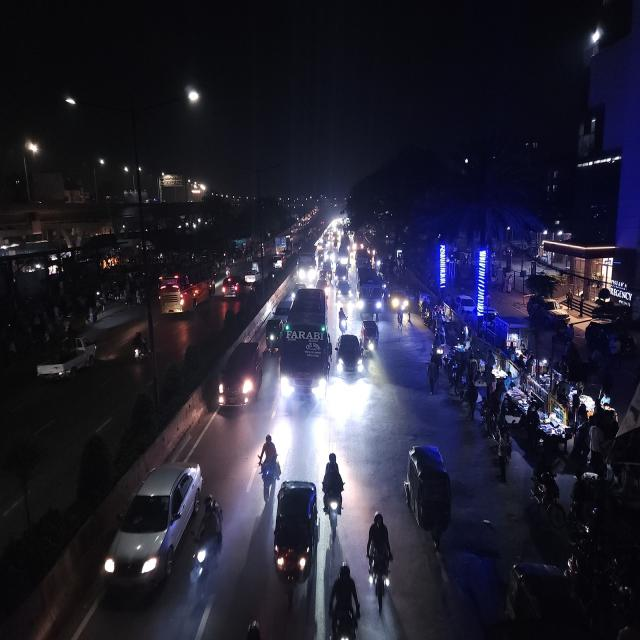bus: (282, 284, 332, 420), (156, 261, 216, 318), (355, 265, 385, 320), (296, 234, 320, 288)
car: (99, 456, 204, 606), (215, 339, 262, 416), (336, 329, 364, 383), (221, 274, 245, 302), (456, 292, 476, 319), (336, 276, 352, 303)
cng: (402, 439, 454, 549), (272, 475, 319, 596), (264, 316, 284, 357), (362, 316, 381, 357), (362, 317, 381, 358)
motorcycle: (188, 493, 224, 598), (365, 507, 395, 613), (327, 561, 361, 639), (322, 447, 346, 530), (257, 430, 279, 495), (128, 330, 150, 368), (337, 305, 349, 336)
pedestrian: (425, 352, 442, 394)
pickup_van: (36, 333, 100, 385)
truck: (273, 234, 291, 256)
